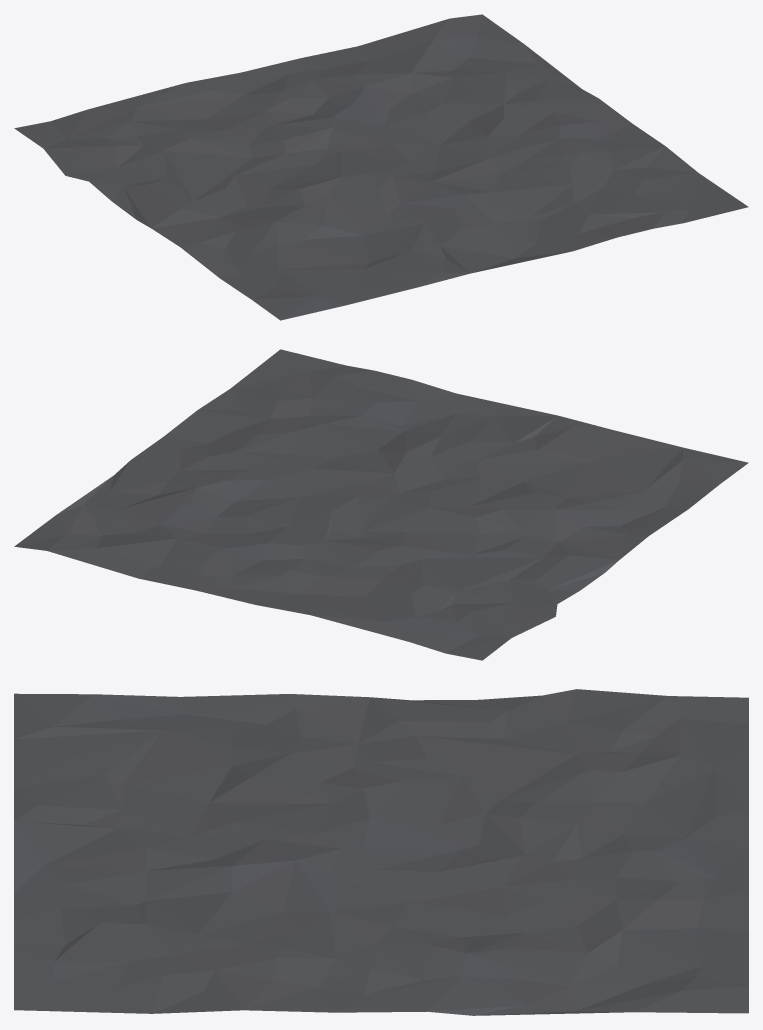
Rendered from Floor.FBX.
3 renders of one model, top to bottom at view 1: azimuth 30°, elevation 25°; view 2: azimuth 150°, elevation 25°; view 3: azimuth 270°, elevation 25°, orthographic. The views are drawn at different scales.
Parts seen in each view (by area): view 1: Sol_Alchimiste; view 2: Sol_Alchimiste; view 3: Sol_Alchimiste.
Part boxes in pixels (left/top/right/bottom): Sol_Alchimiste: left=14, top=14, right=748, bottom=320; Sol_Alchimiste: left=14, top=349, right=748, bottom=660; Sol_Alchimiste: left=14, top=689, right=748, bottom=1015.
Bounding box in the file's own units: 1678 × 35.16 × 1616.
1 material, 1 textured.
